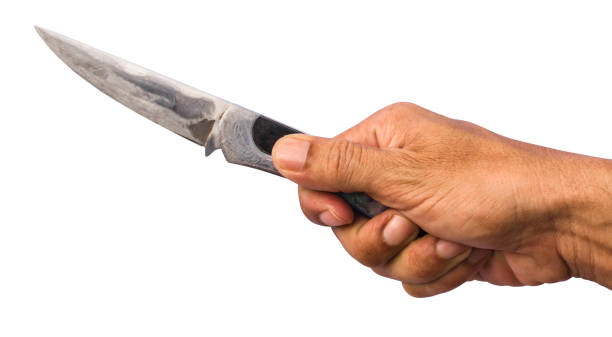knife: (0, 22, 32, 116)
